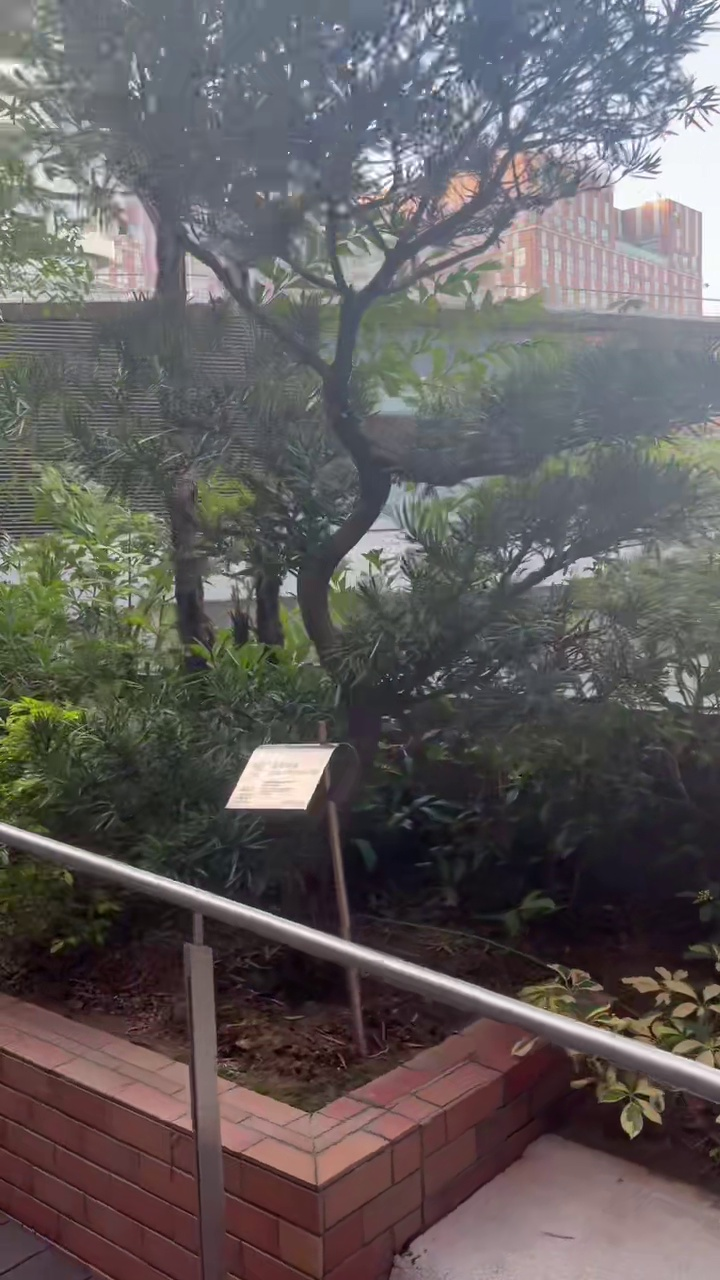Podocarpus macrophyllus: (43, 0, 716, 659)
